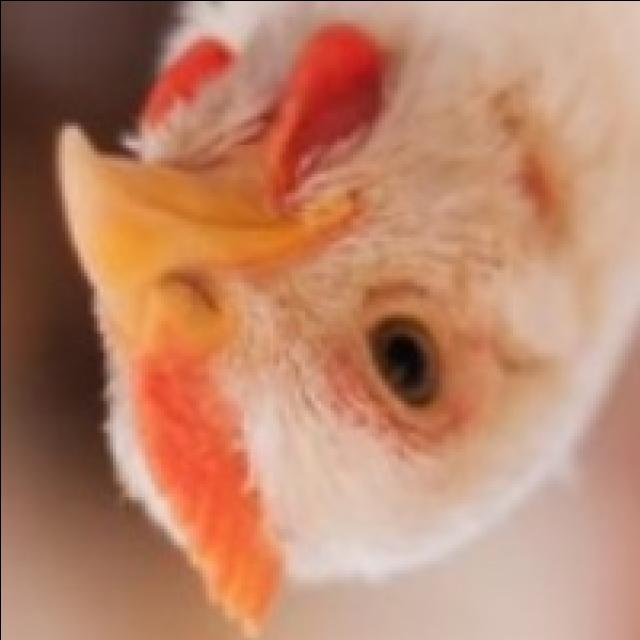Healthy: (54, 6, 636, 634)
